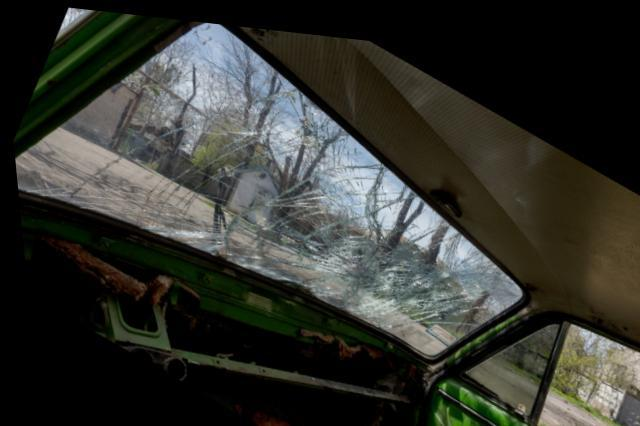glass shatter: (12, 18, 518, 347)
